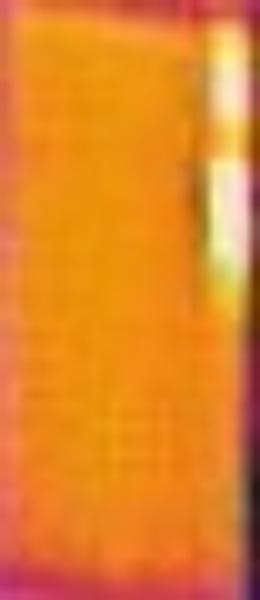Diode: (197, 13, 255, 318)
